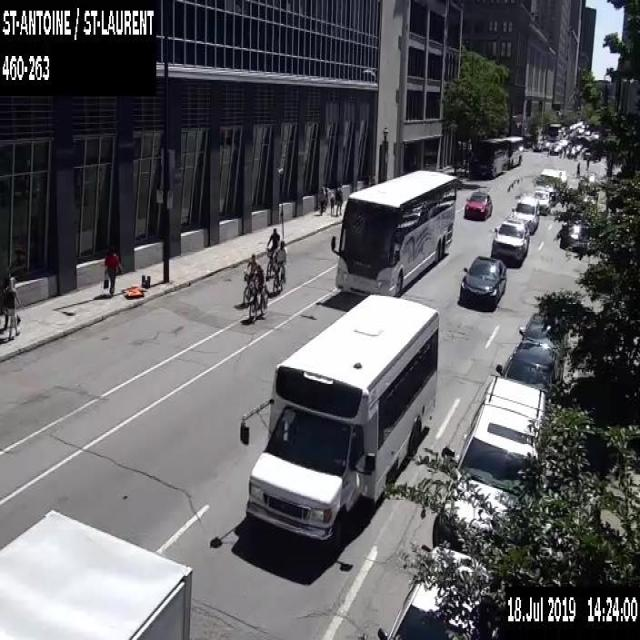bus: (239, 292, 439, 546), (331, 167, 456, 298), (476, 137, 508, 177), (501, 135, 523, 167)
construction: (124, 273, 150, 296)
cyclist: (248, 264, 268, 321), (271, 240, 287, 292), (242, 252, 257, 306), (266, 227, 280, 279)
pedestrian: (5, 276, 24, 341), (102, 244, 124, 295), (1, 275, 20, 328), (334, 184, 342, 216), (318, 185, 326, 214), (322, 184, 328, 209), (329, 192, 334, 214), (575, 161, 580, 177), (585, 155, 589, 169), (562, 144, 566, 156), (558, 146, 562, 158), (573, 148, 577, 160), (568, 146, 571, 158)
vehicle: (0, 509, 191, 639), (431, 374, 547, 549), (376, 542, 492, 638), (496, 338, 562, 398), (459, 254, 506, 306), (518, 310, 571, 355), (490, 218, 531, 262), (511, 194, 539, 232), (536, 167, 560, 206), (558, 221, 588, 251), (463, 189, 491, 219), (533, 189, 553, 214), (577, 170, 598, 191), (582, 194, 596, 211), (556, 168, 567, 184), (532, 140, 545, 150), (565, 145, 575, 156), (581, 147, 590, 158), (549, 144, 558, 154), (543, 140, 550, 149)
